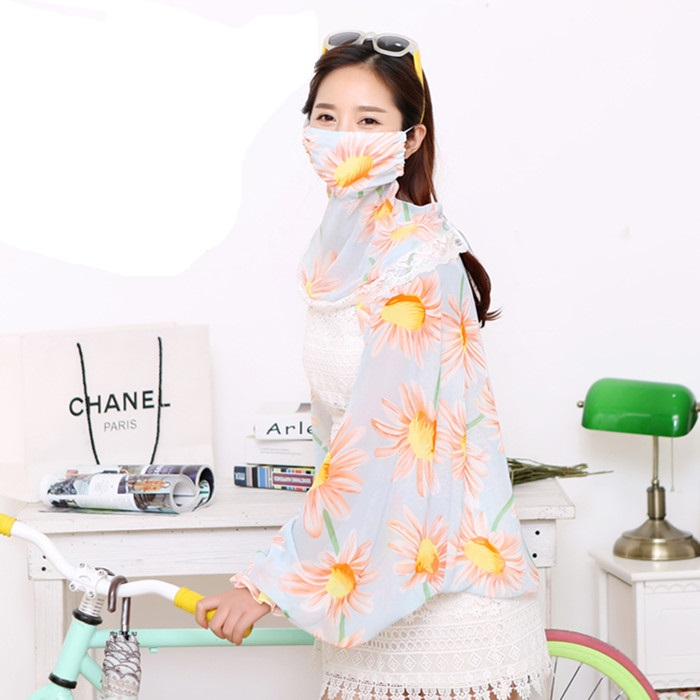face_mask: (305, 65, 403, 191)
